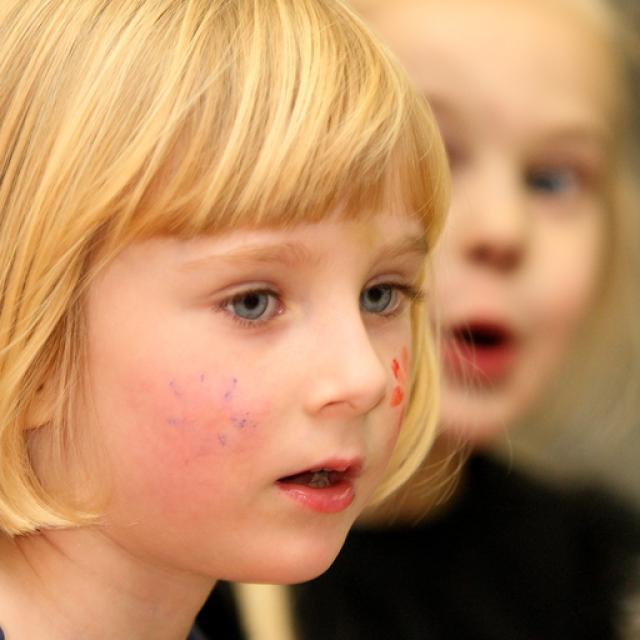surprise: (85, 114, 429, 584)
